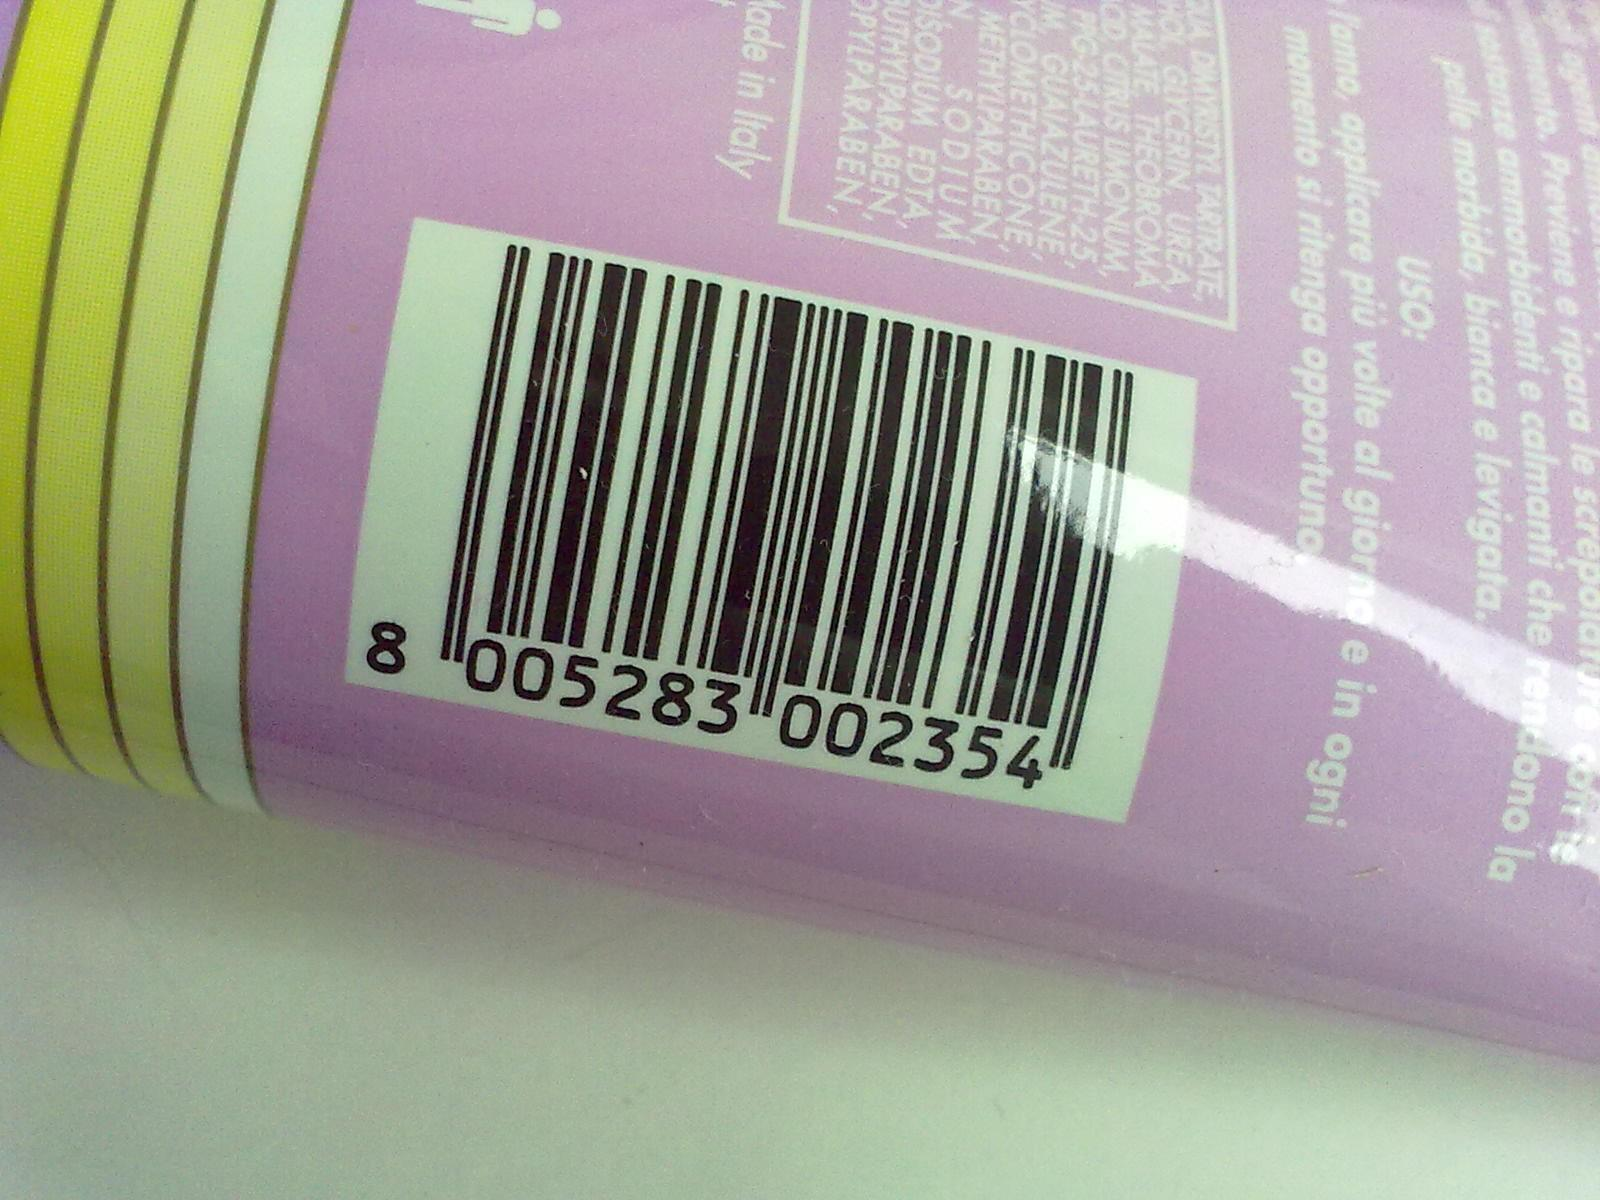Barcode: (349, 218, 1149, 829)
